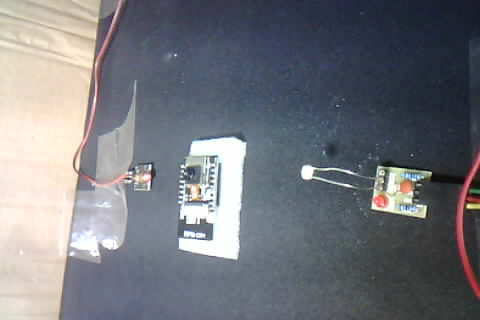esp32: (172, 134, 250, 257)
